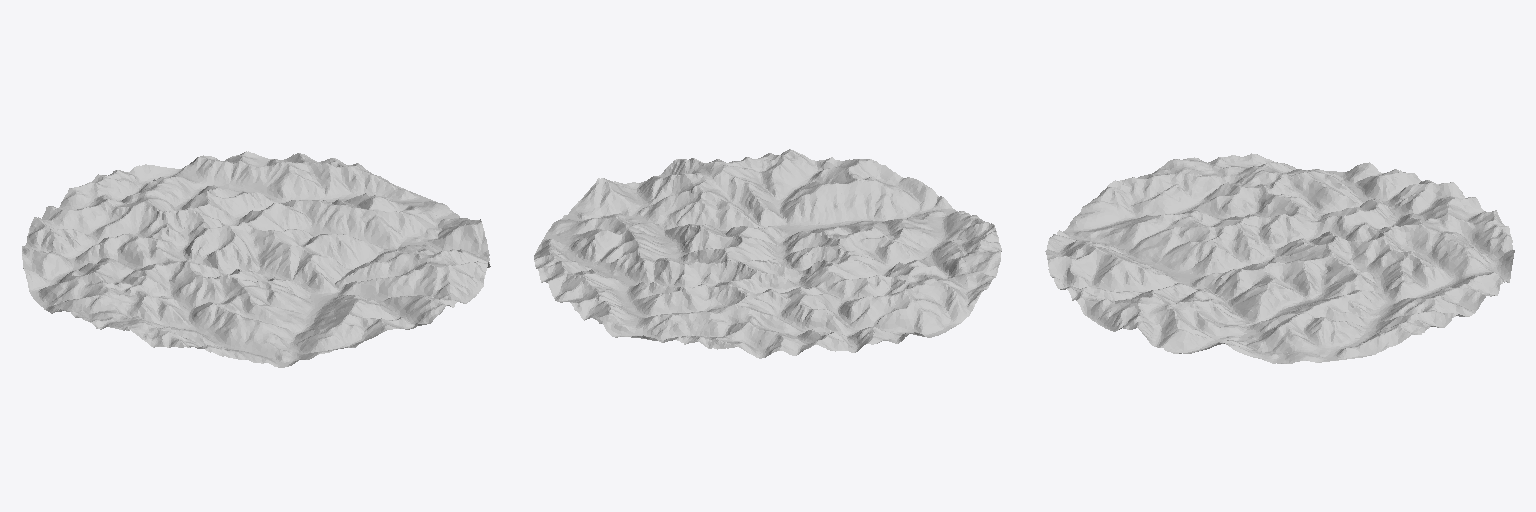
The model's file is mountains.obj.
3 views of the same model, side by side, from view 1: azimuth 30°, elevation 25°; view 2: azimuth 150°, elevation 25°; view 3: azimuth 270°, elevation 25° (orthographic).
Visible parts, largest first — view 1: Cylinder; view 2: Cylinder; view 3: Cylinder.
Boxes of the visible parts, x1,y1,x2,y2 form: Cylinder: [22, 151, 490, 367]; Cylinder: [534, 149, 1001, 358]; Cylinder: [1045, 153, 1514, 363].
Size of the model in its own units: 25.37 by 1.6 by 25.41.